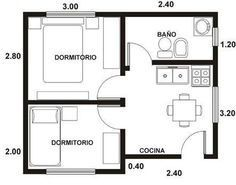door: (95, 69, 129, 99), (179, 124, 210, 156), (126, 38, 155, 68), (96, 104, 128, 130)
room: (121, 65, 221, 160), (24, 12, 129, 99), (24, 100, 124, 173), (124, 11, 221, 66)
wall: (21, 8, 34, 176), (24, 89, 127, 107), (93, 8, 219, 18), (122, 148, 182, 164), (117, 10, 129, 76), (152, 57, 220, 68), (212, 45, 225, 87), (117, 128, 128, 175), (211, 123, 223, 160), (94, 165, 127, 177), (18, 8, 48, 20), (23, 162, 46, 177), (203, 152, 222, 161), (212, 9, 220, 28)
window: (23, 11, 129, 103), (46, 158, 95, 181), (210, 83, 229, 124), (45, 10, 95, 20), (211, 26, 222, 47)
